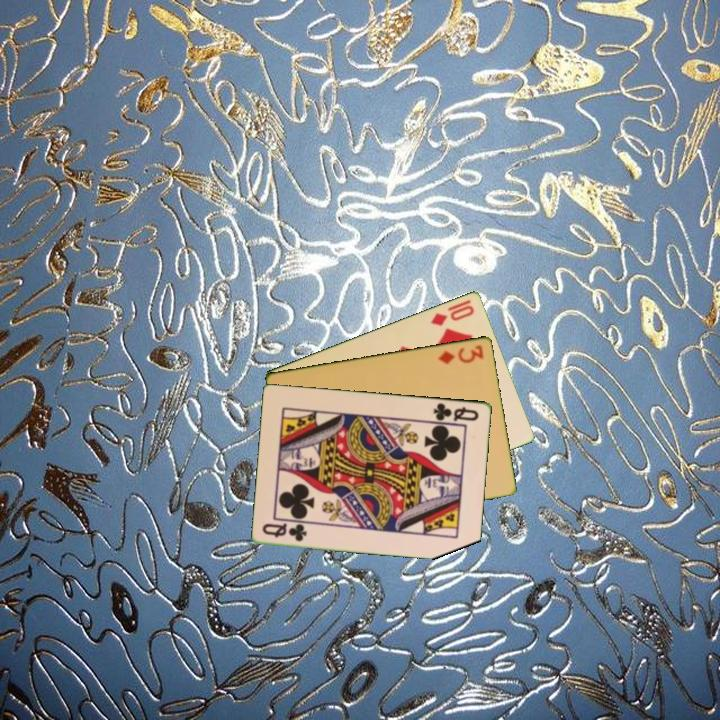10d: (427, 301, 477, 329)
3d: (434, 341, 486, 367)
Qc: (430, 399, 482, 424), (259, 519, 310, 544)
